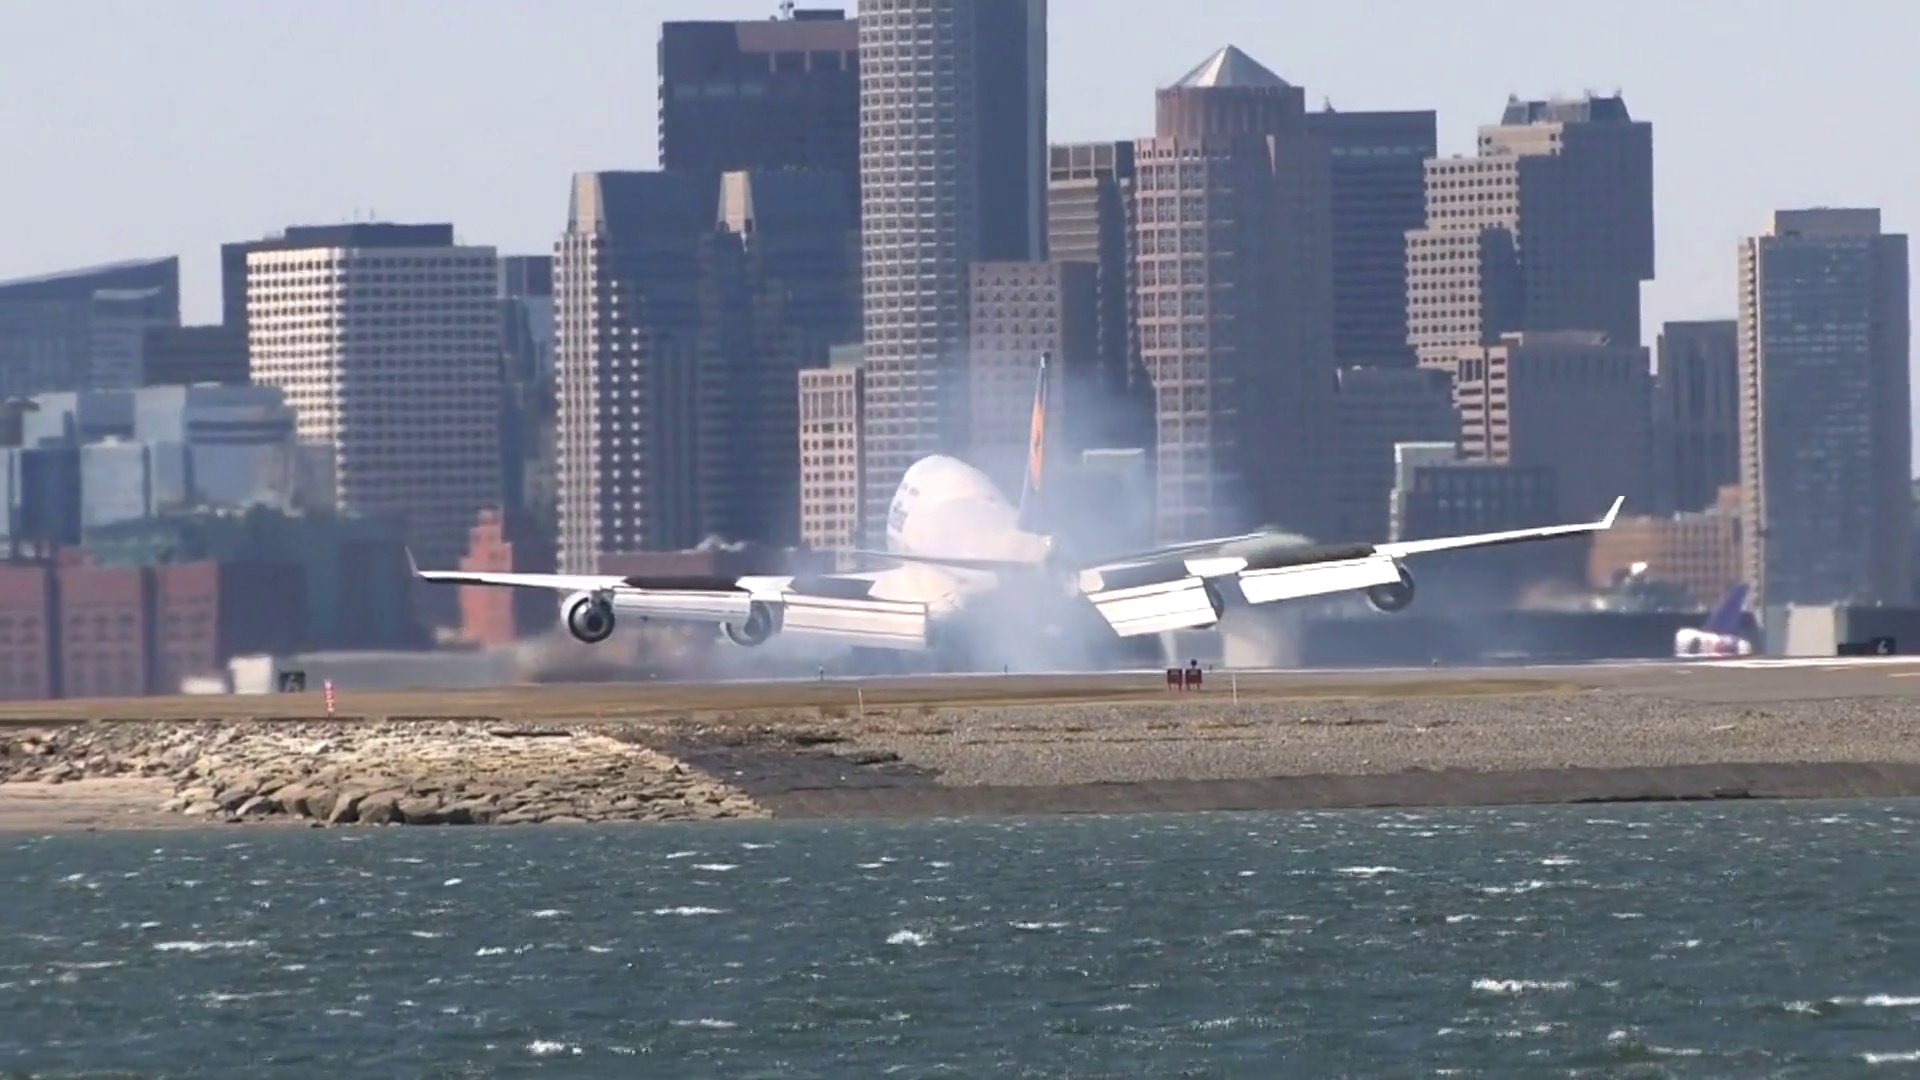plane: (401, 349, 1629, 653)
